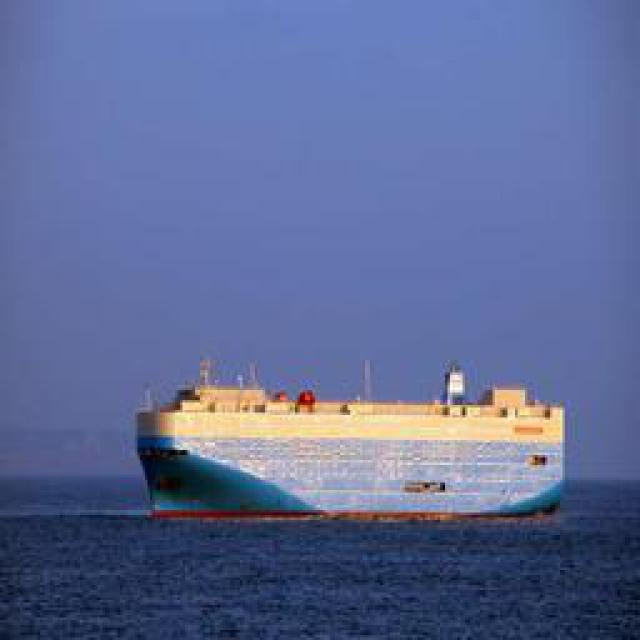Ship: (147, 376, 565, 524)
